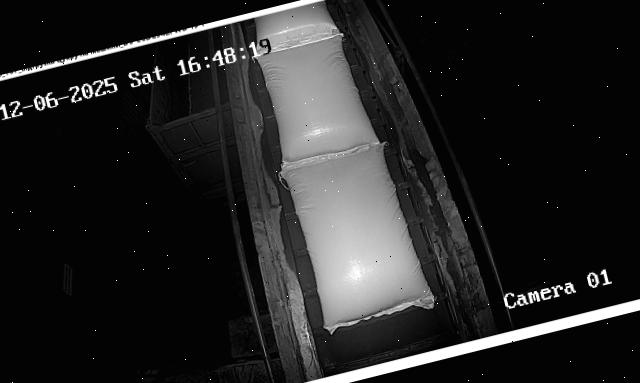bag: (281, 138, 436, 336), (256, 28, 381, 166), (250, 0, 339, 54)
